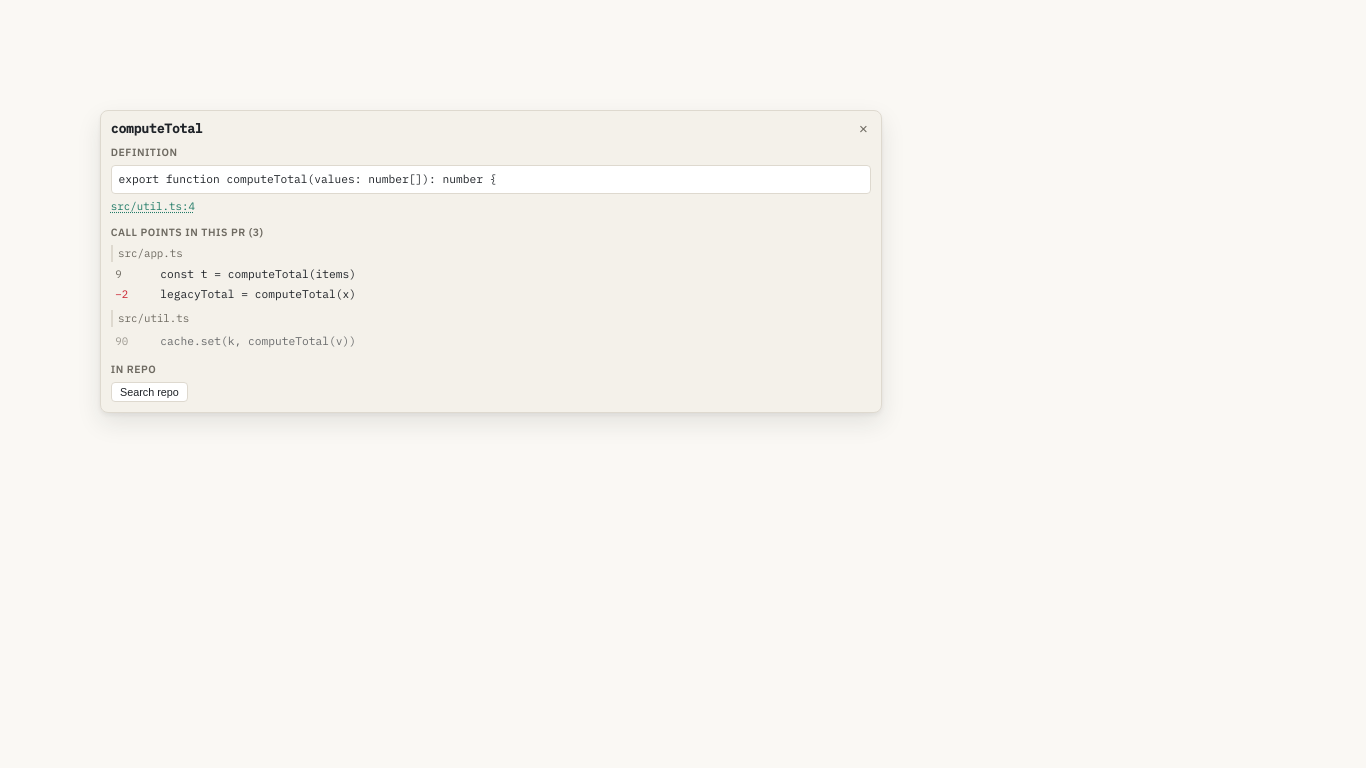
Test: SymbolPopover — In repo section › renders results grouped by file — non-clickable, with tooltip and footnote
What coordinates should you click on to do the following:
click the button "Search repo"
I would click on:
 (149, 392)
Its box is [111,382,188,402].
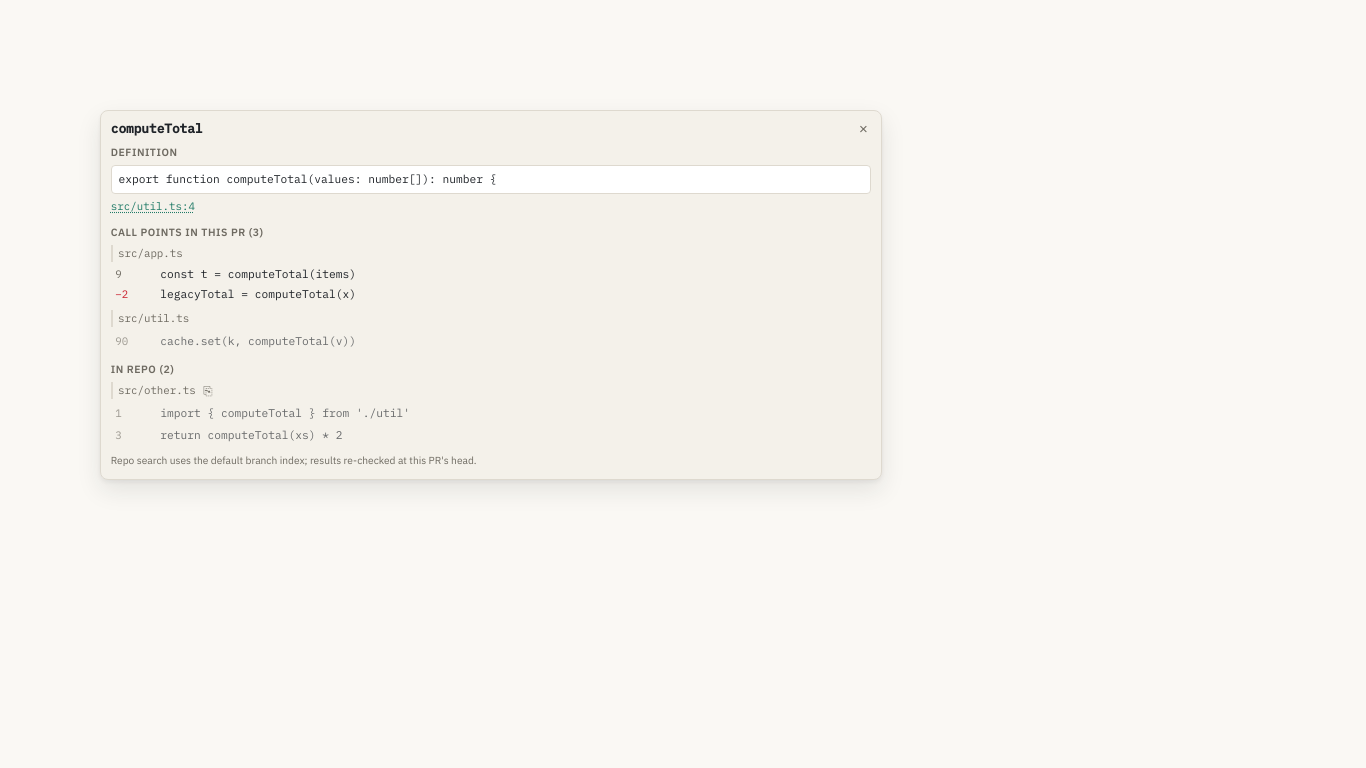
Expected: the heading "In repo (2)" is shown, [111,362,174,376]
Expected: the element with class "repo-file" shows "src/other.ts", [118,383,196,397]
Expected: the element with class "static" shows "import { computeTotal } from './util'", [160,404,410,420]
